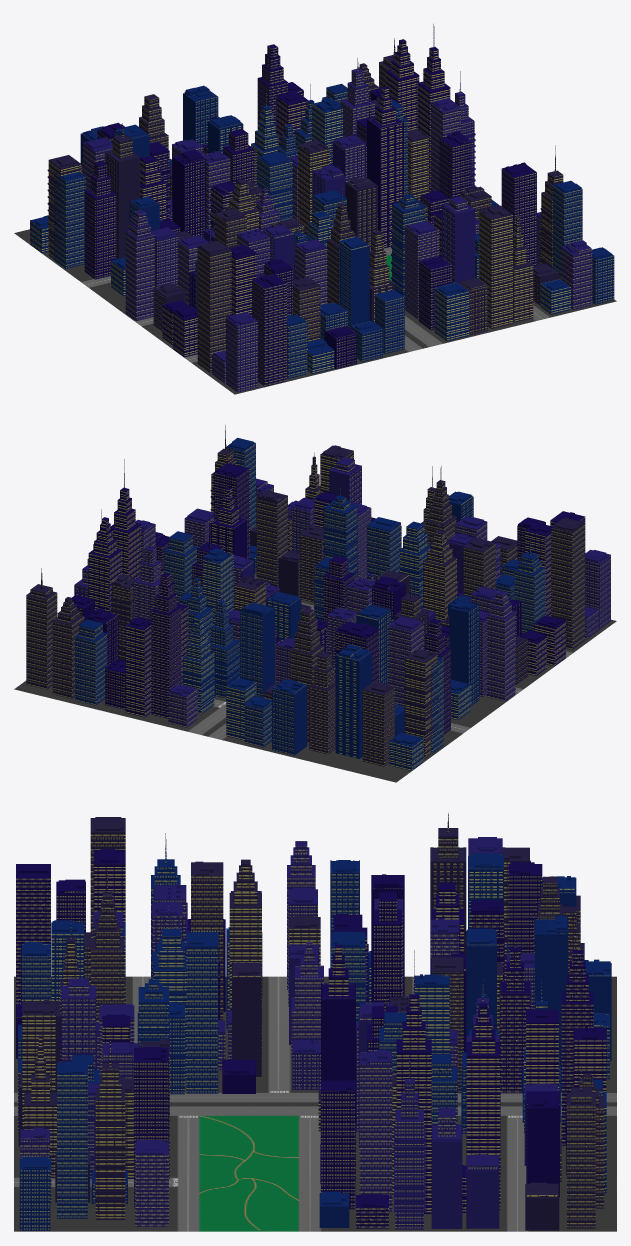
The model's file is Cityscape.obj.
3 renders of one model, top to bottom at view 1: azimuth 30°, elevation 25°; view 2: azimuth 150°, elevation 25°; view 3: azimuth 270°, elevation 25°, orthographic. The views are drawn at different scales.
Parts seen in each view (by area): view 1: g qTown_basePlane_geo, g building_grp grp_building_geo92, g building_grp grp_building_geo33, g building_grp grp_building_geo94, g building_grp grp_building_geo93, g building_grp grp_building_geo122, g building_grp grp_building_geo73, g building_grp grp_building_geo136, g building_grp grp_building_geo114, g building_grp grp_building_geo6, g building_grp grp_building_geo123, g building_grp grp_building_geo18 (+70 smaller); view 2: g qTown_basePlane_geo, g building_grp grp_building_geo33, g building_grp grp_building_geo159, g building_grp grp_building_geo68, g building_grp grp_building_geo73, g building_grp grp_building_geo86, g building_grp grp_building_geo167, g building_grp grp_building_geo149, g building_grp grp_building_geo56, g building_grp grp_building_geo113, g building_grp grp_building_geo160, g building_grp grp_building_geo178 (+65 smaller); view 3: g qTown_basePlane_geo, g building_grp grp_building_geo50, g building_grp grp_building_geo82, g building_grp grp_building_geo30, g building_grp grp_building_geo147, g building_grp grp_building_geo72, g building_grp grp_building_geo161, g building_grp grp_building_geo86, g building_grp grp_building_geo109, g building_grp grp_building_geo92, g building_grp grp_building_geo97, g building_grp grp_building_geo85 (+70 smaller).
Part boxes in pixels (bbox=[...]): g qTown_basePlane_geo: bbox=[14, 229, 616, 394]; g building_grp grp_building_geo92: bbox=[367, 86, 403, 247]; g building_grp grp_building_geo33: bbox=[197, 240, 231, 372]; g building_grp grp_building_geo94: bbox=[479, 205, 512, 328]; g building_grp grp_building_geo93: bbox=[252, 274, 286, 386]; g building_grp grp_building_geo122: bbox=[84, 160, 115, 279]; g building_grp grp_building_geo73: bbox=[125, 210, 154, 320]; g building_grp grp_building_geo136: bbox=[54, 172, 85, 268]; g building_grp grp_building_geo114: bbox=[172, 149, 205, 236]; g building_grp grp_building_geo6: bbox=[338, 236, 369, 328]; g building_grp grp_building_geo123: bbox=[105, 123, 139, 259]; g building_grp grp_building_geo18: bbox=[442, 196, 474, 283]; g qTown_basePlane_geo: bbox=[14, 572, 616, 782]; g building_grp grp_building_geo33: bbox=[551, 517, 584, 649]; g building_grp grp_building_geo159: bbox=[151, 572, 181, 718]; g building_grp grp_building_geo68: bbox=[335, 644, 371, 758]; g building_grp grp_building_geo73: bbox=[486, 590, 515, 701]; g building_grp grp_building_geo86: bbox=[26, 568, 57, 689]; g building_grp grp_building_geo167: bbox=[240, 602, 274, 697]; g building_grp grp_building_geo149: bbox=[404, 648, 438, 758]; g building_grp grp_building_geo56: bbox=[256, 490, 287, 586]; g building_grp grp_building_geo113: bbox=[449, 600, 479, 705]; g building_grp grp_building_geo160: bbox=[125, 617, 151, 717]; g building_grp grp_building_geo178: bbox=[272, 679, 307, 755]; g qTown_basePlane_geo: bbox=[14, 976, 616, 1231]; g building_grp grp_building_geo50: bbox=[186, 931, 218, 1093]; g building_grp grp_building_geo82: bbox=[359, 1049, 392, 1211]; g building_grp grp_building_geo30: bbox=[57, 1061, 87, 1218]; g building_grp grp_building_geo147: bbox=[466, 1003, 500, 1209]; g building_grp grp_building_geo72: bbox=[95, 1027, 125, 1219]; g building_grp grp_building_geo161: bbox=[394, 1054, 425, 1229]; g building_grp grp_building_geo86: bbox=[567, 1064, 595, 1228]; g building_grp grp_building_geo109: bbox=[321, 1080, 355, 1209]; g building_grp grp_building_geo92: bbox=[321, 944, 355, 1123]; g building_grp grp_building_geo97: bbox=[396, 950, 431, 1213]; g building_grp grp_building_geo85: bbox=[431, 1108, 462, 1228].
Bounding box in the file's own units: 75 × 35.89 × 75.
13 materials, 13 textured.
